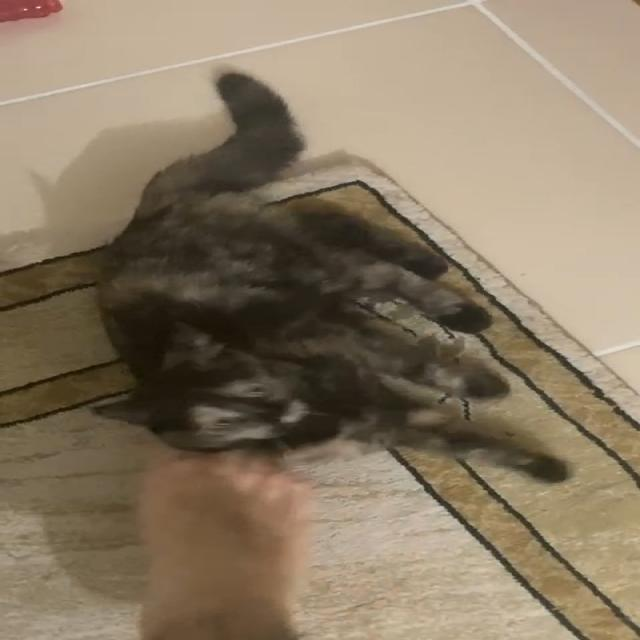authorized: (87, 69, 569, 484)
